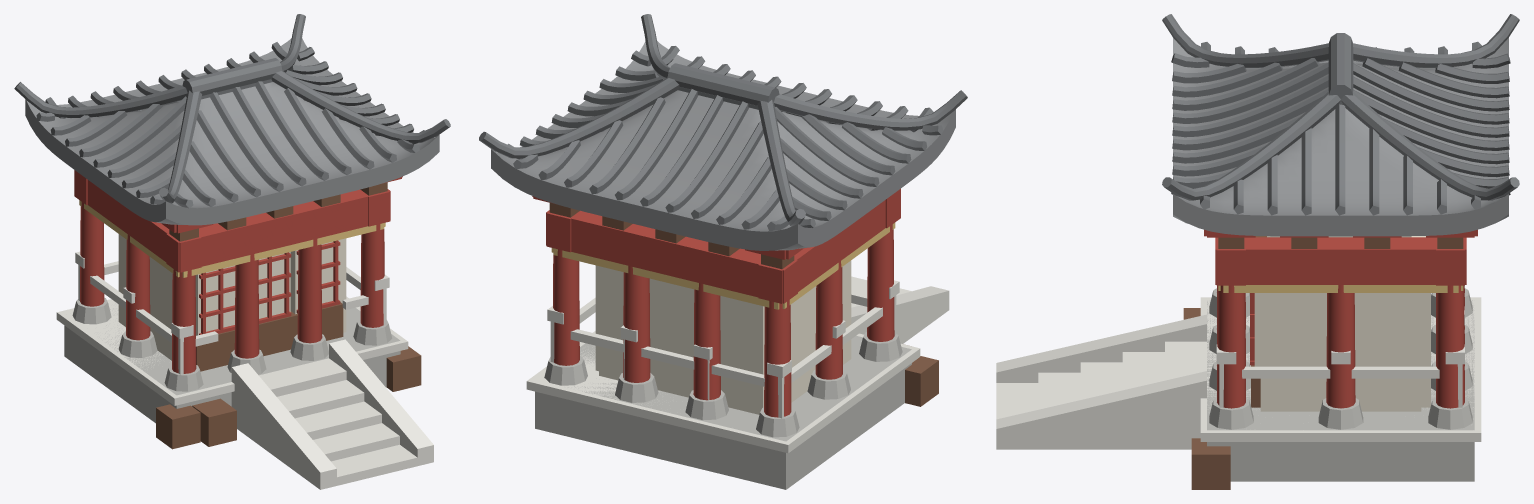
File: SonMon_store.fbx
3 renders of one model, left to right at view 1: azimuth 30°, elevation 25°; view 2: azimuth 150°, elevation 25°; view 3: azimuth 270°, elevation 25°, orthographic. The views are drawn at different scales.
Visible parts, largest first — view 1: store; view 2: store; view 3: store.
Boxes of the visible parts, box(x1,y1,x2,y2) form: store: box(14, 14, 450, 489); store: box(479, 14, 967, 489); store: box(996, 14, 1519, 489).
Size of the model in its own units: 2.47 by 2.43 by 3.23.
